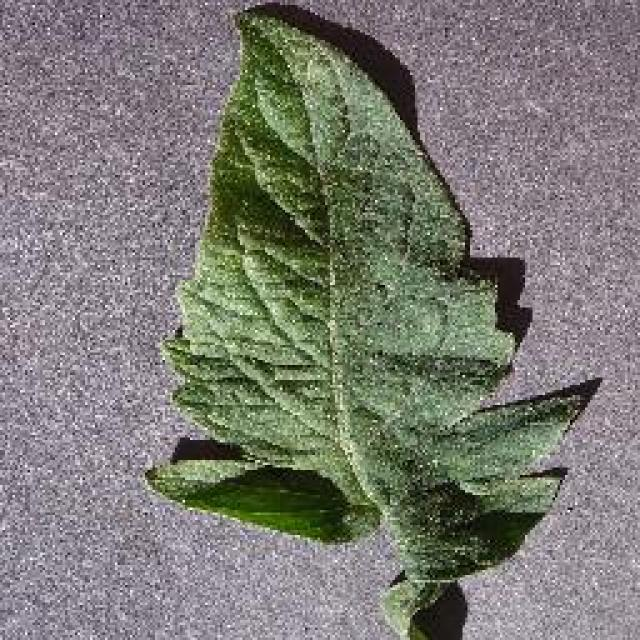Tomato___healthy: (133, 13, 588, 638)
